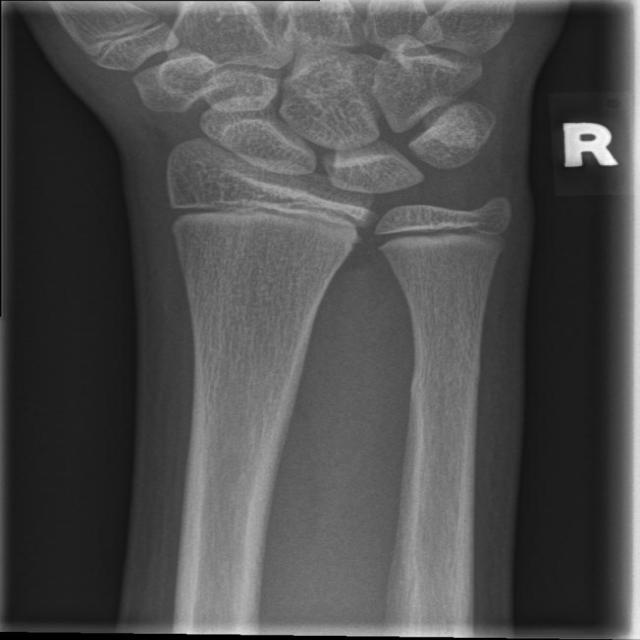fracture: (153, 187, 373, 259), (349, 212, 528, 262)
